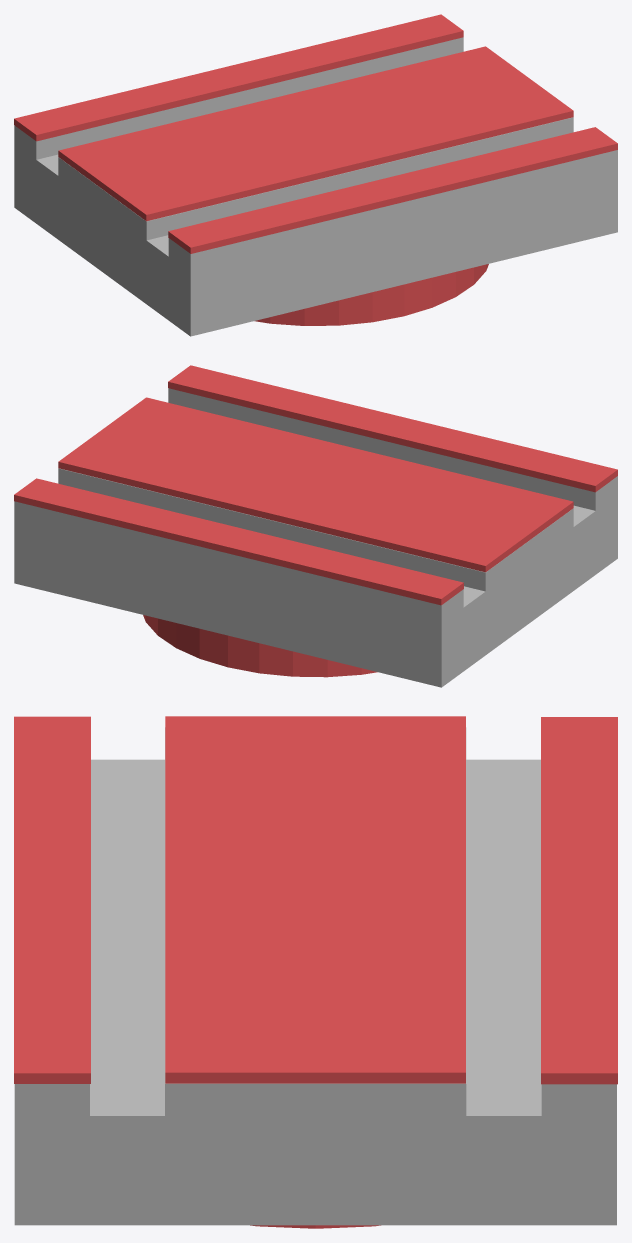
Rendered from conveyorrotativo.fbx.
3 views of the same model, one above another, from view 1: azimuth 30°, elevation 25°; view 2: azimuth 150°, elevation 25°; view 3: azimuth 270°, elevation 25° (orthographic). The views are drawn at different scales.
Visible parts, largest first — view 1: Cube, Cube.003, Cube.001, Cube.002, Cylinder; view 2: Cube, Cube.003, Cube.002, Cube.001, Cylinder; view 3: Cube, Cube.003, Cube.001, Cube.002.
Boxes of the visible parts, x1,y1,x2,y2 form: Cube: [14, 37, 617, 336]; Cube.003: [58, 46, 573, 221]; Cube.001: [14, 14, 463, 141]; Cube.002: [168, 127, 617, 253]; Cylinder: [254, 264, 488, 325]; Cube: [14, 388, 617, 687]; Cube.003: [58, 397, 573, 572]; Cube.002: [168, 365, 617, 492]; Cube.001: [14, 478, 463, 605]; Cylinder: [143, 615, 377, 677]; Cube: [14, 727, 616, 1225]; Cube.003: [165, 716, 465, 1083]; Cube.001: [541, 717, 617, 1084]; Cube.002: [14, 716, 90, 1083].
Bounding box in the file's own units: 700 × 190 × 501.
